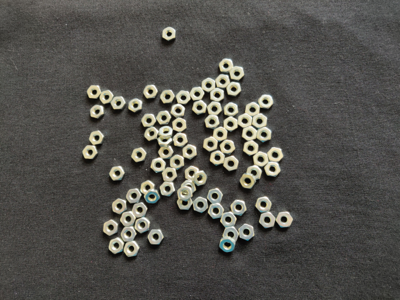nut: (259, 212, 276, 229), (275, 212, 293, 228), (239, 174, 257, 190), (124, 241, 140, 258), (121, 227, 138, 243), (239, 224, 255, 241), (230, 200, 247, 216), (208, 204, 225, 220), (207, 188, 223, 205), (109, 238, 125, 254), (220, 237, 236, 253), (256, 197, 272, 213), (193, 197, 209, 213), (265, 162, 281, 178), (253, 152, 269, 168), (223, 156, 239, 172), (220, 213, 237, 228), (148, 230, 164, 245), (104, 220, 119, 236), (120, 212, 136, 227), (135, 218, 150, 234), (112, 199, 127, 215), (177, 187, 193, 202), (193, 171, 208, 187), (247, 166, 263, 181), (268, 148, 284, 163), (89, 131, 105, 146), (151, 158, 166, 174), (210, 151, 226, 166), (220, 140, 236, 155), (244, 141, 259, 157), (243, 126, 258, 142), (257, 127, 272, 143), (82, 146, 99, 160), (133, 203, 148, 218), (127, 189, 142, 204), (145, 189, 160, 204), (160, 182, 175, 197), (185, 166, 200, 181), (213, 127, 228, 142), (253, 114, 268, 129), (238, 114, 253, 129), (224, 117, 239, 132), (173, 133, 188, 148), (159, 125, 174, 140), (205, 115, 220, 130), (171, 104, 186, 119), (224, 103, 239, 118), (227, 82, 242, 97), (230, 66, 245, 81), (223, 228, 239, 242), (177, 196, 193, 210), (181, 181, 197, 195), (162, 168, 178, 182), (170, 155, 184, 171), (258, 95, 274, 109), (173, 117, 187, 133), (156, 111, 172, 125), (141, 181, 156, 195), (110, 167, 125, 181), (183, 145, 197, 160), (132, 148, 147, 162), (204, 137, 218, 152), (246, 103, 261, 117), (90, 105, 105, 119), (129, 98, 143, 113), (143, 85, 158, 99), (160, 90, 175, 104), (176, 91, 191, 105), (193, 101, 208, 115), (208, 102, 223, 116), (190, 87, 205, 101), (210, 88, 225, 102), (202, 78, 216, 93), (215, 75, 230, 89), (219, 59, 234, 73), (158, 146, 174, 159), (111, 97, 127, 110), (145, 127, 159, 141), (162, 27, 176, 41), (87, 86, 102, 99), (157, 136, 173, 148), (100, 91, 114, 104), (142, 115, 157, 127)
